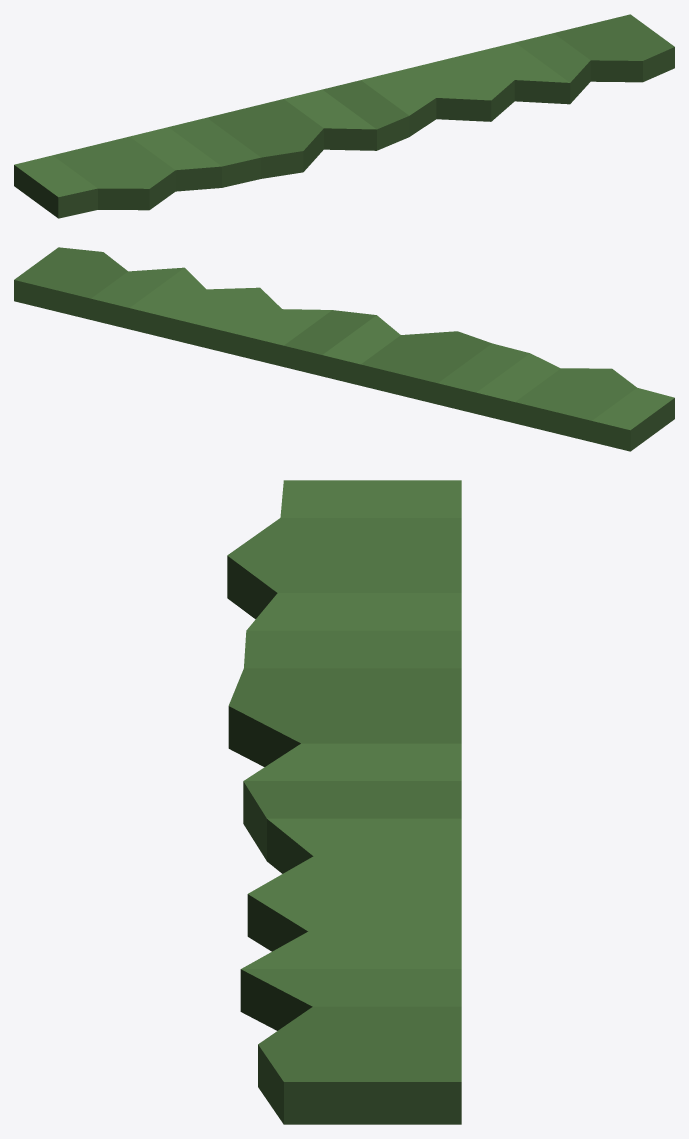
File: edge_grass.glb
3 renders of one model, top to bottom at view 1: azimuth 30°, elevation 25°; view 2: azimuth 150°, elevation 25°; view 3: azimuth 270°, elevation 25°, orthographic. The views are drawn at different scales.
Parts seen in each view (by area): view 1: edge_grass; view 2: edge_grass; view 3: edge_grass.
Part boxes in pixels (left/top/right/bottom): edge_grass: left=14, top=14, right=674, bottom=218; edge_grass: left=14, top=247, right=674, bottom=451; edge_grass: left=227, top=480, right=461, bottom=1124.
Bounding box in the file's own units: 3.2 × 0.106 × 0.5273.
